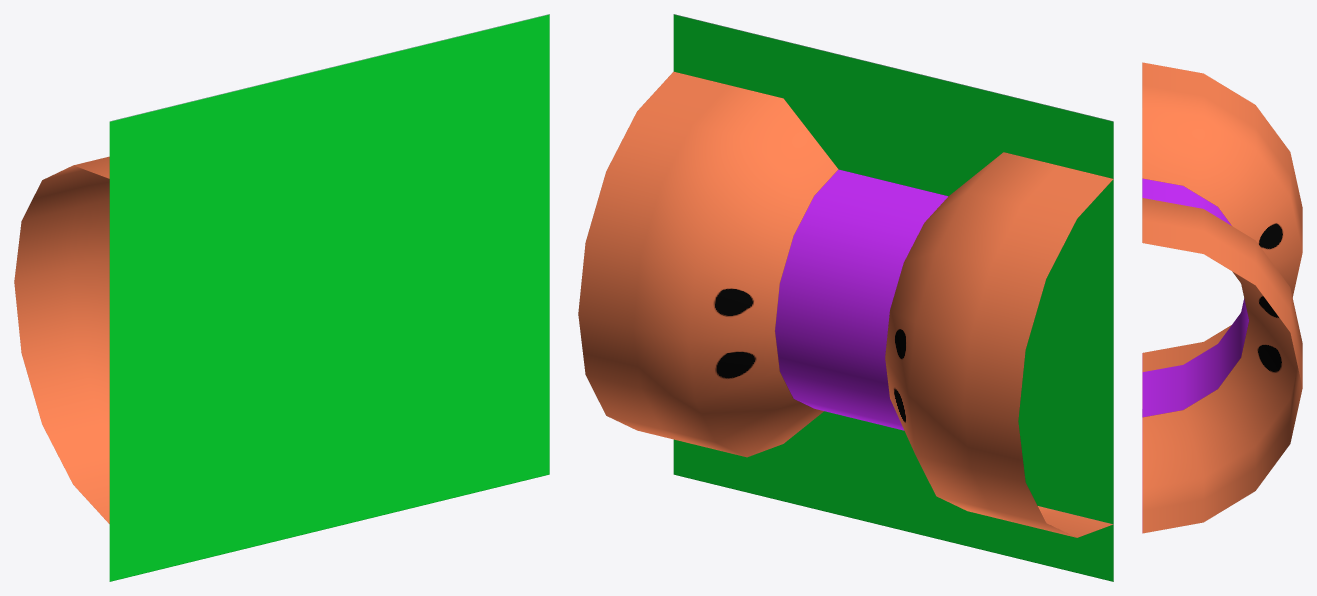
The model's file is 1x1_Strt.fbx.
3 renders of one model, left to right at view 1: azimuth 30°, elevation 25°; view 2: azimuth 150°, elevation 25°; view 3: azimuth 270°, elevation 25°, orthographic. The views are drawn at different scales.
Visible parts, largest first — view 1: Panel_1x1_Straight; view 2: Panel_1x1_Straight; view 3: Panel_1x1_Straight.
Boxes of the visible parts, x1=… form: Panel_1x1_Straight: x1=14, y1=14, x2=549, y2=581; Panel_1x1_Straight: x1=578, y1=14, x2=1113, y2=581; Panel_1x1_Straight: x1=1142, y1=62, x2=1302, y2=533.
Size of the model in its own units: 100 by 100 by 37.5.
